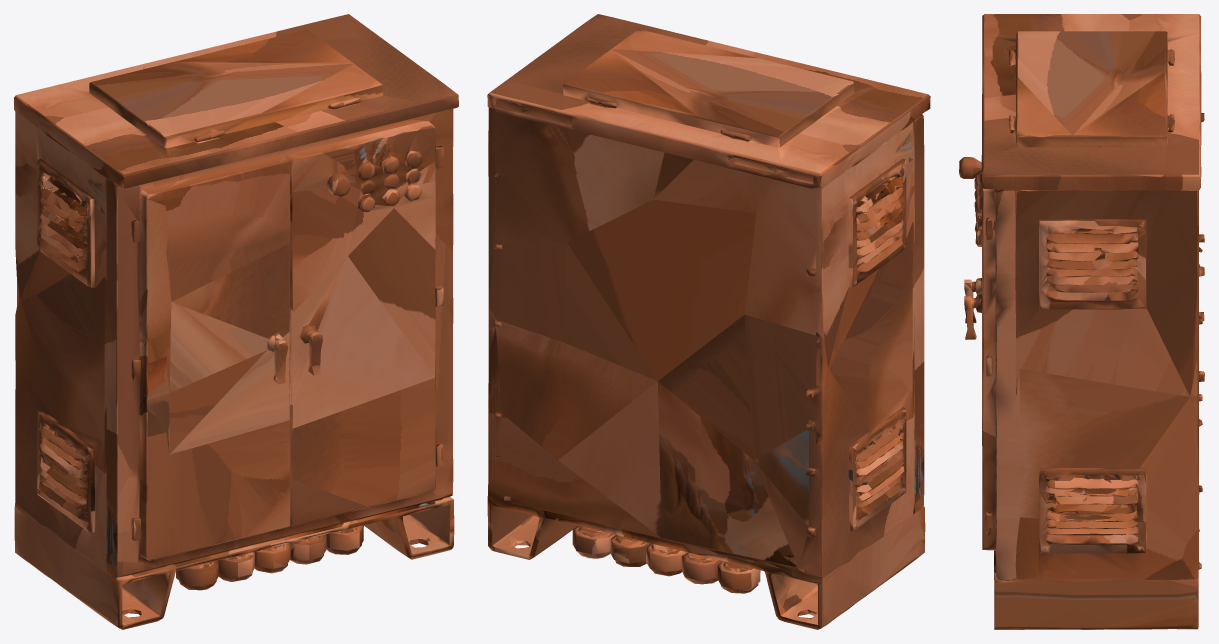
Rendered from Props_ElectricalCabinet_Repaired.fbx.
The picture shows the model from 3 angles, left to right: view 1: azimuth 30°, elevation 25°; view 2: azimuth 150°, elevation 25°; view 3: azimuth 270°, elevation 25°; orthographic projection.
Visible parts, largest first — view 1: texture_mapping; view 2: texture_mapping; view 3: texture_mapping.
Part boxes in pixels (left/top/right/bottom): texture_mapping: left=14, top=14, right=458, bottom=629; texture_mapping: left=487, top=14, right=930, bottom=629; texture_mapping: left=959, top=14, right=1204, bottom=629.
Bounding box in the file's own units: 78.56 × 99.58 × 47.54.
